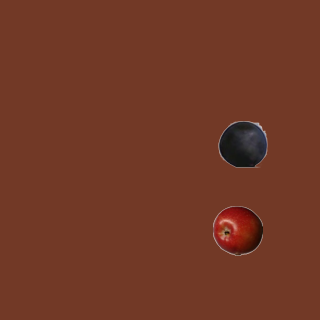Apple Braeburn: (212, 205, 262, 255)
Grape Blue: (217, 118, 267, 168)
